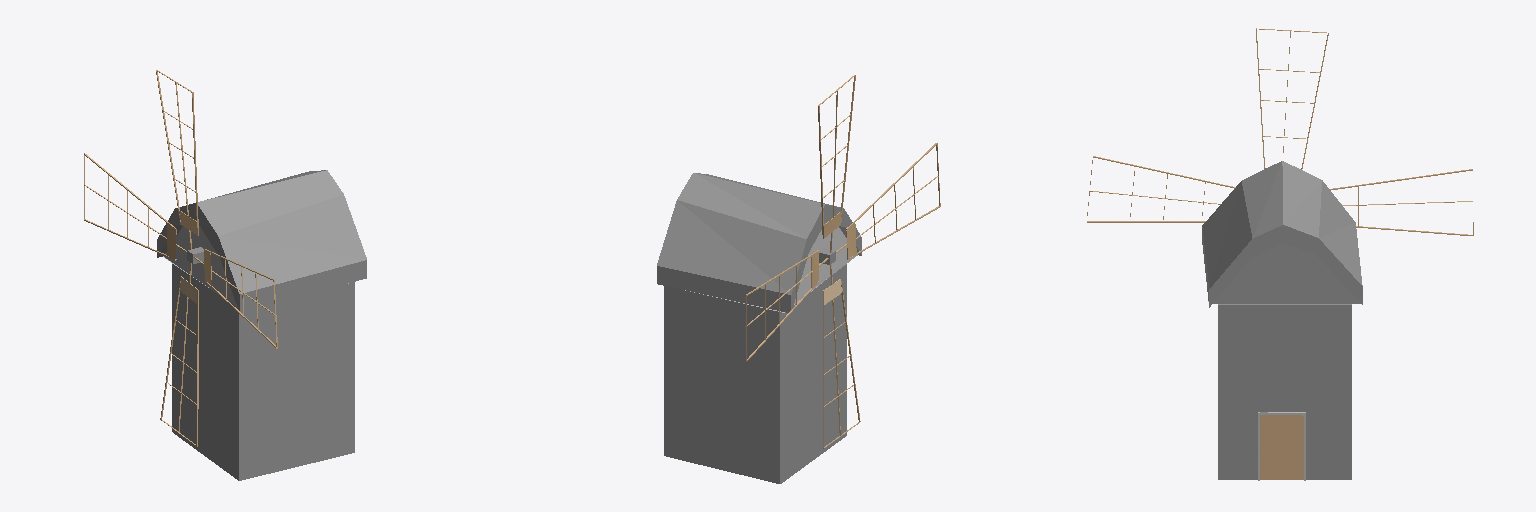
3 renders of one model, left to right at view 1: azimuth 30°, elevation 25°; view 2: azimuth 150°, elevation 25°; view 3: azimuth 270°, elevation 25°, orthographic.
Visible parts, largest first — view 1: House_Cube.061, Roof_Cube.060, Plane.001; view 2: House_Cube.061, Roof_Cube.060, Plane.001; view 3: House_Cube.061, Roof_Cube.060, Plane, Door_Plane.003.
Boxes of the visible parts, <box> form: House_Cube.061: <box>172,264,354,480</box>; Roof_Cube.060: <box>157,170,366,311</box>; Plane.001: <box>164,226,237,307</box>; House_Cube.061: <box>664,264,846,483</box>; Roof_Cube.060: <box>657,173,861,312</box>; Plane.001: <box>794,223,857,303</box>; House_Cube.061: <box>1218,304,1351,479</box>; Roof_Cube.060: <box>1202,161,1362,307</box>; Plane: <box>1213,243,1360,303</box>; Door_Plane.003: <box>1260,415,1303,479</box>.
Bounding box in the file's own units: 4.65 × 11.14 × 10.25.
Materials: 11 (1 with a texture image).